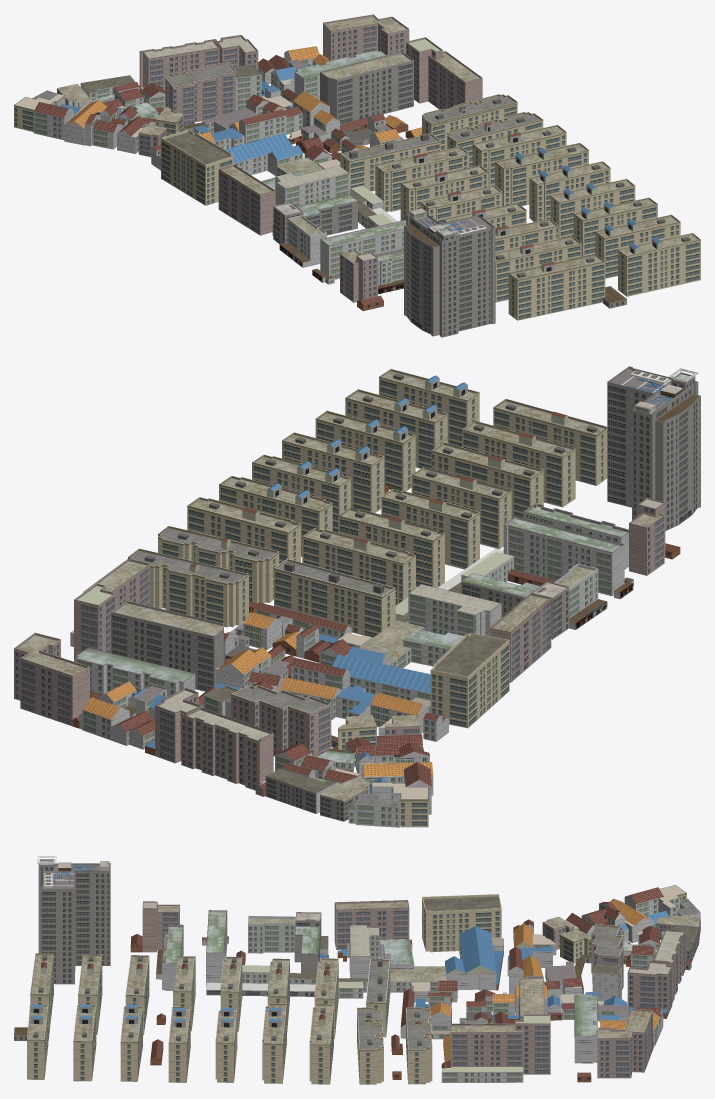
3 views of the same model, one above another, from view 1: azimuth 30°, elevation 25°; view 2: azimuth 150°, elevation 25°; view 3: azimuth 270°, elevation 25° (orthographic). The views are drawn at different scales.
Visible parts, largest first — view 1: HK23_BU_BB_049; view 2: HK23_BU_BB_049; view 3: HK23_BU_BB_049.
Boxes of the visible parts, x1,y1,x2,y2 form: HK23_BU_BB_049: (14,14,700,337); HK23_BU_BB_049: (14,366,700,827); HK23_BU_BB_049: (14,856,700,1084).
Size of the model in its own units: 209 by 55.72 by 341.
Materials: 1 (1 with a texture image).
